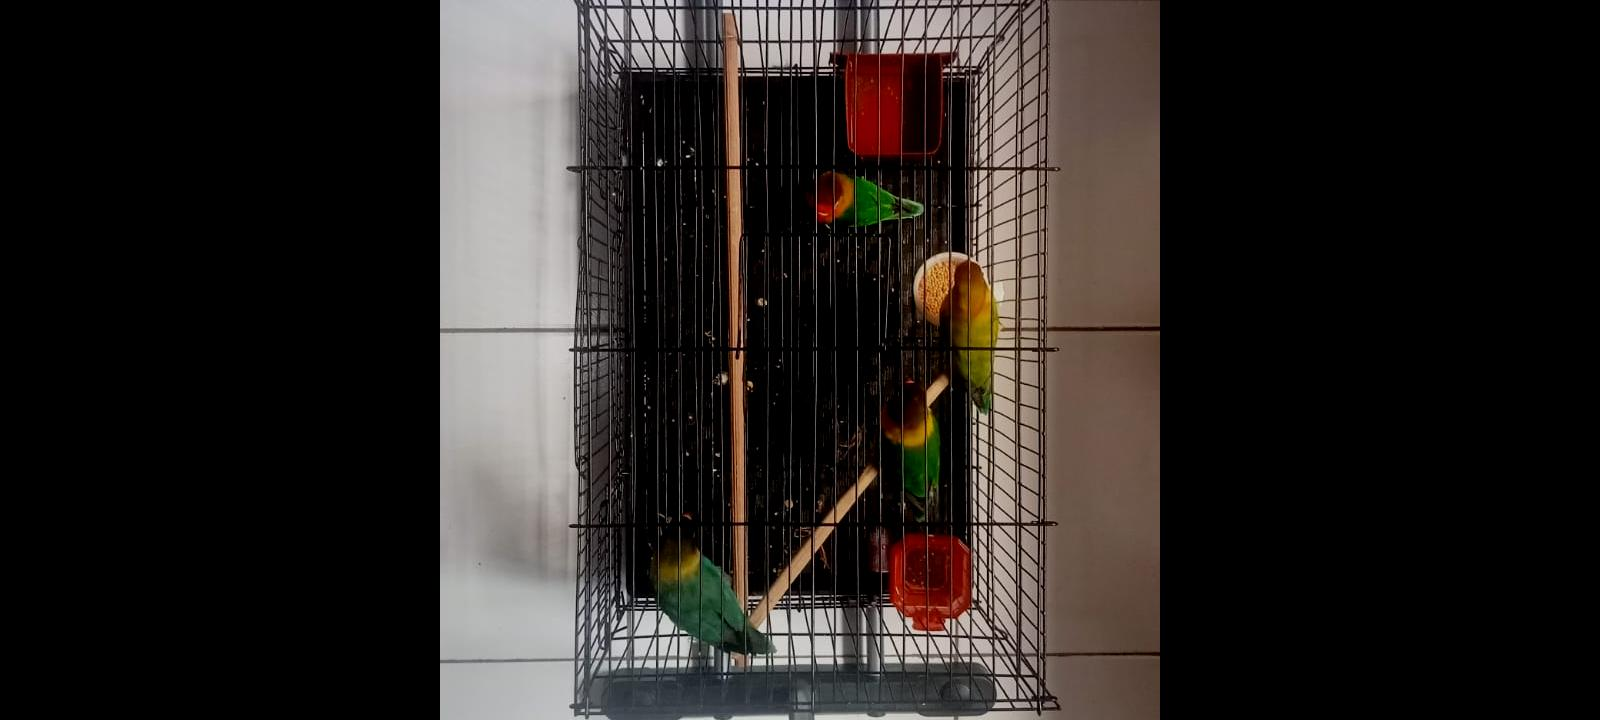LoveBird: (649, 512, 777, 654), (877, 376, 941, 521), (940, 259, 999, 414), (804, 169, 922, 226)
